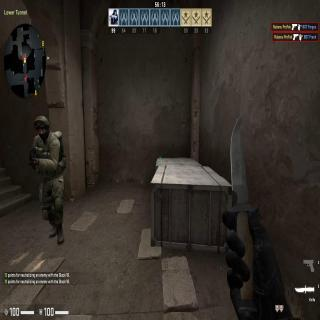CT-Body: (26, 112, 69, 228)
CT-Head: (32, 116, 49, 137)
